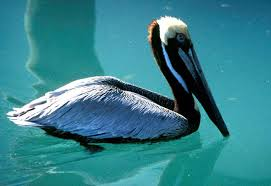pelican: (9, 16, 230, 146)
